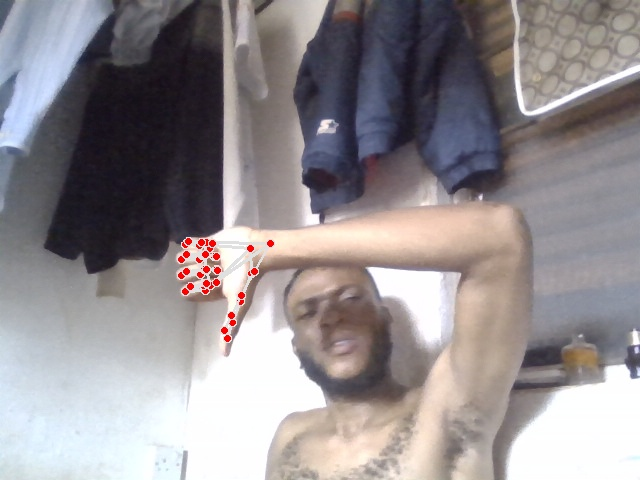thumbsdown: (175, 224, 277, 358)
